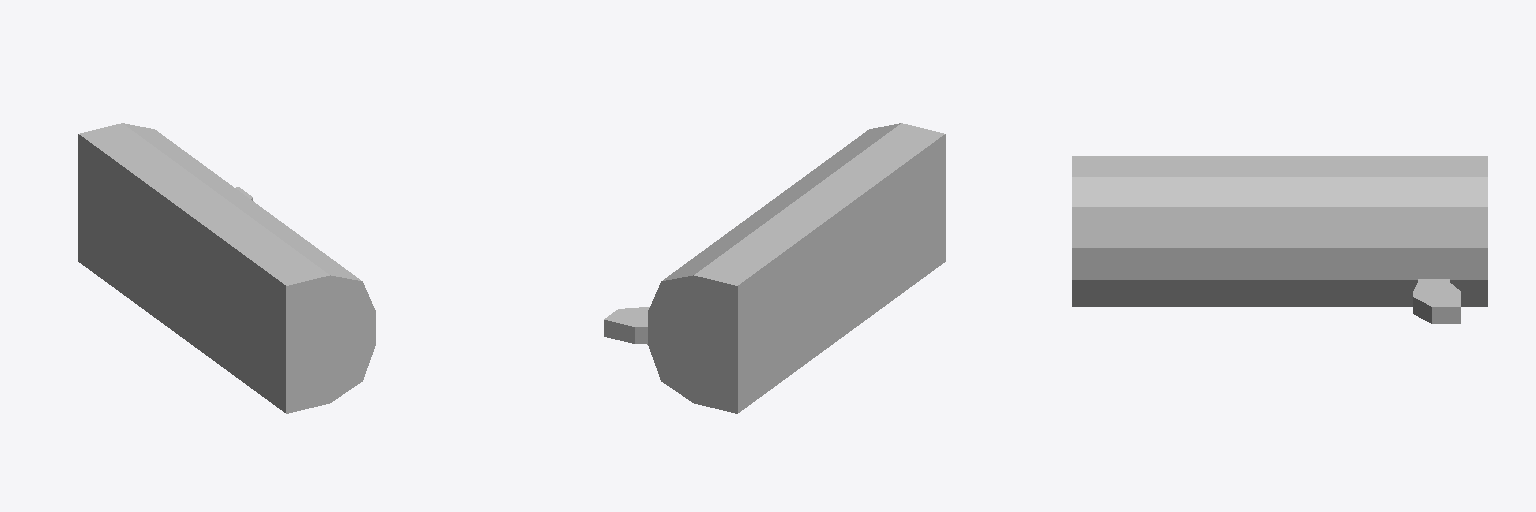
File: Slide.obj
3 views of the same model, side by side, from view 1: azimuth 30°, elevation 25°; view 2: azimuth 150°, elevation 25°; view 3: azimuth 270°, elevation 25° (orthographic).
Parts seen in each view (by area): view 1: Cube.010; view 2: Cube.010; view 3: Cube.010.
Part boxes in pixels (x1,y1,x2,y2): Cube.010: (78,123,375,413); Cube.010: (604,123,945,413); Cube.010: (1072,156,1487,323).
Bounding box in the file's own units: 0.1548 × 0.1288 × 0.3793.